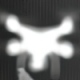plane: (1, 9, 80, 77)
